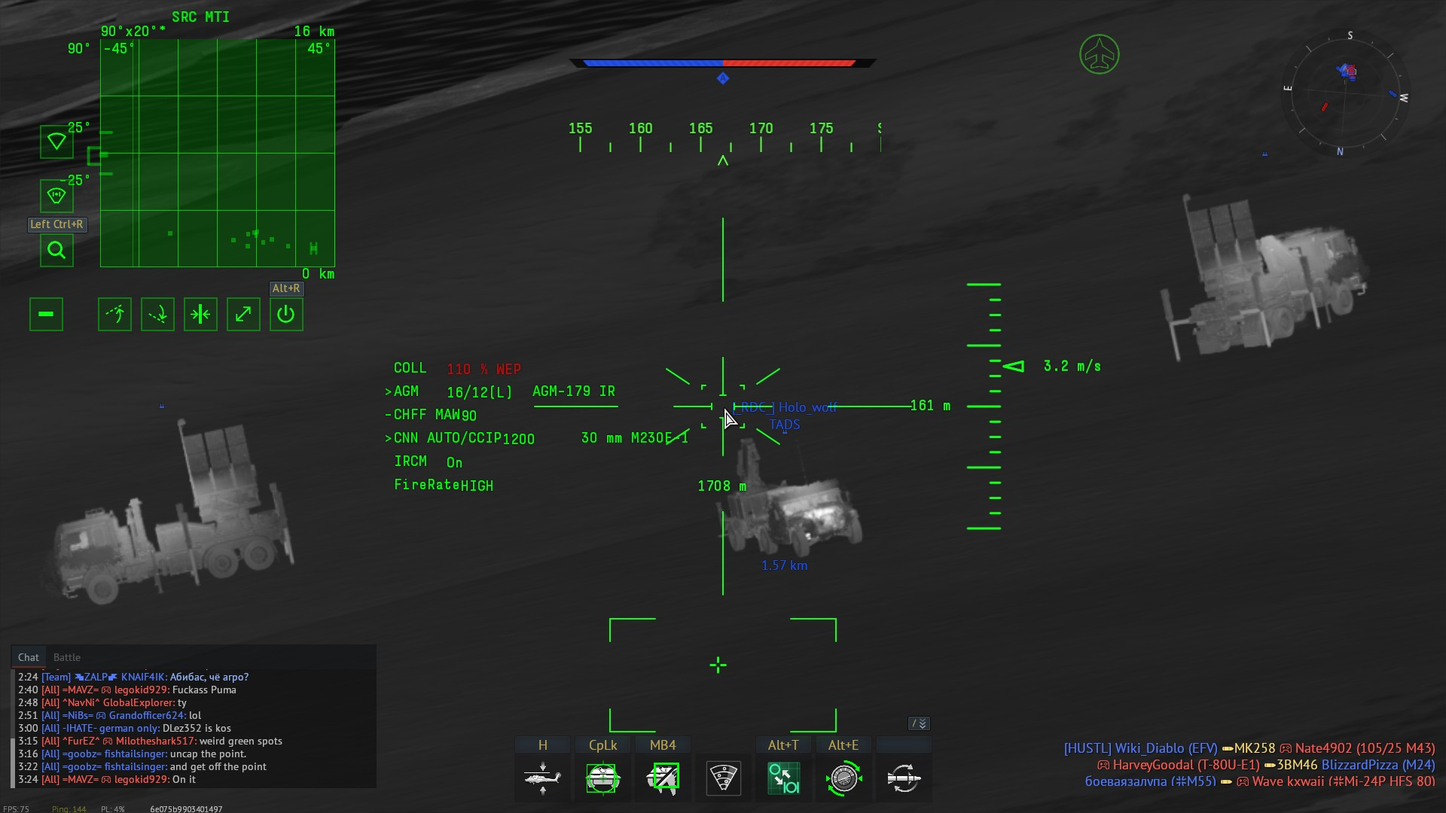spaa_TEL: (51, 422, 295, 606), (1158, 197, 1368, 363)
spaa_tads: (719, 438, 863, 558)
